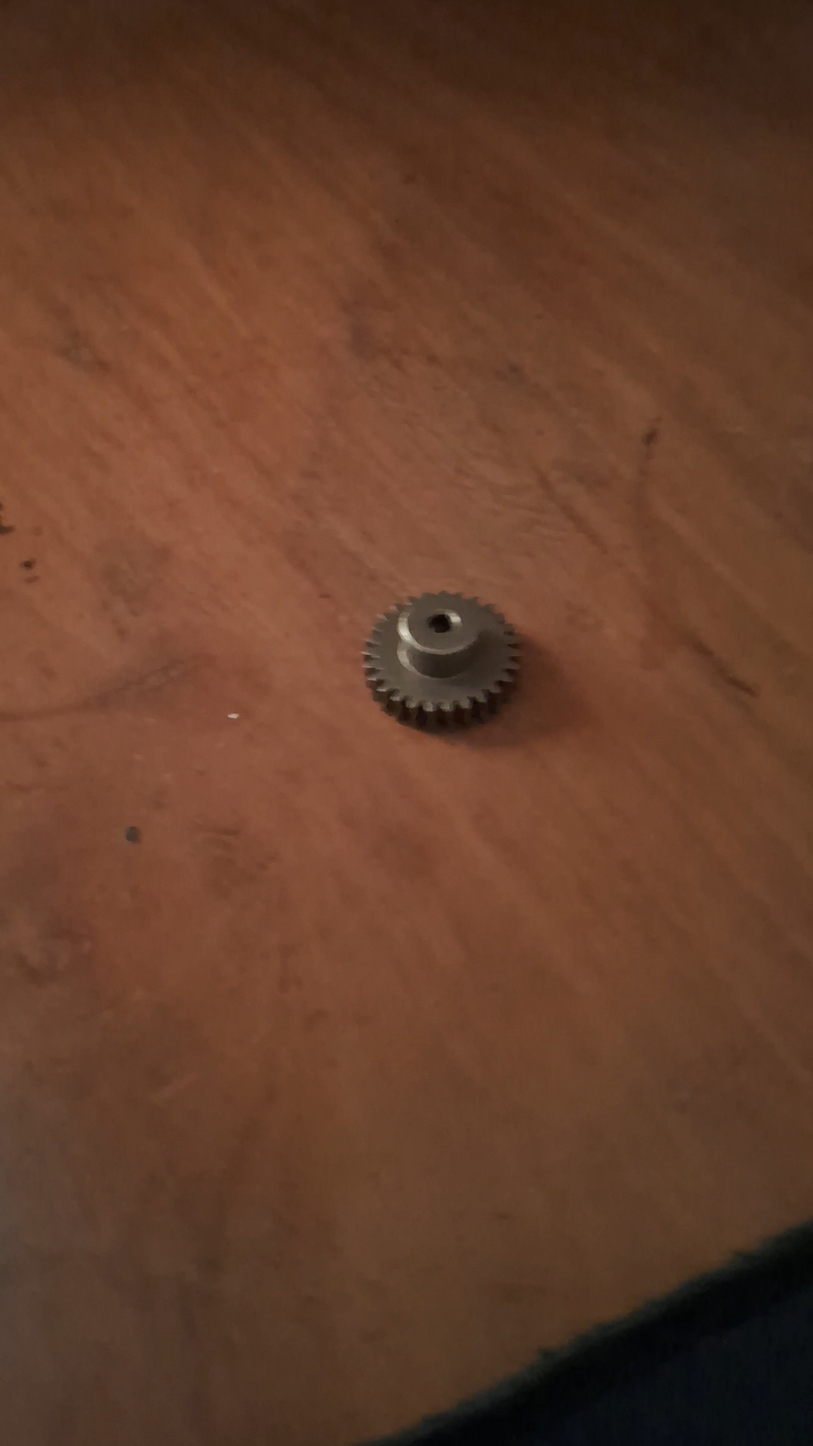spur gear: (363, 593, 518, 729)
